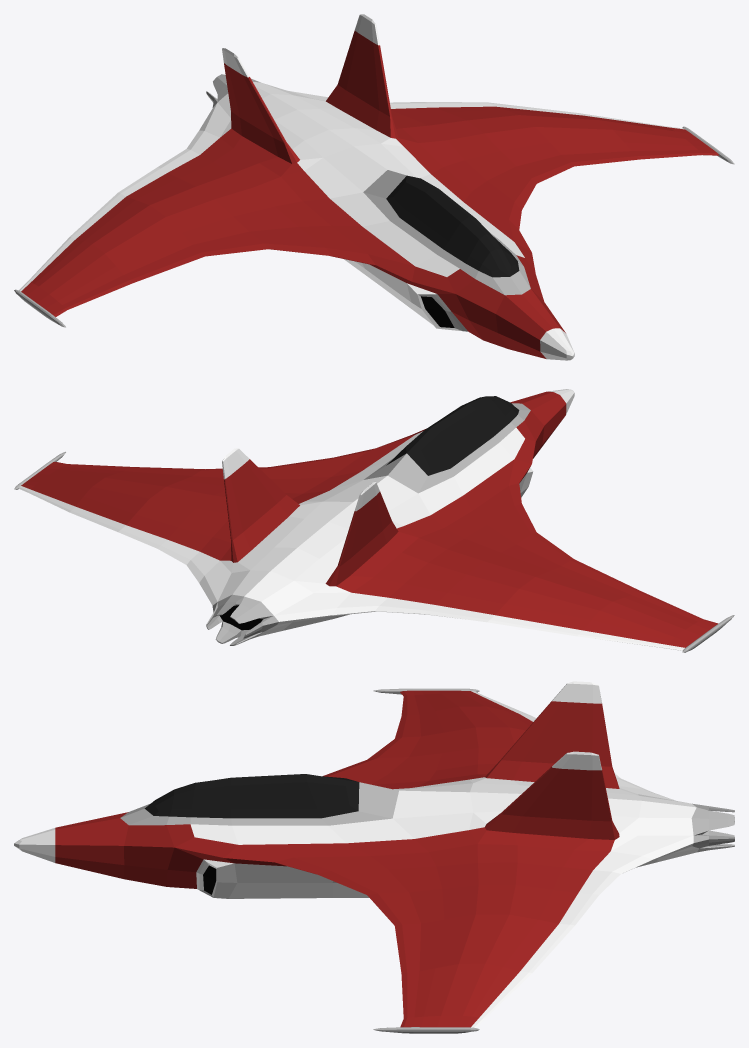
Rendered from jet.glb.
3 renders of one model, top to bottom at view 1: azimuth 30°, elevation 25°; view 2: azimuth 150°, elevation 25°; view 3: azimuth 270°, elevation 25°, orthographic. The views are drawn at different scales.
Visible parts, largest first — view 1: Model; view 2: Model; view 3: Model.
Boxes of the visible parts, x1,y1,x2,y2 form: Model: (14,14,734,360); Model: (14,389,734,652); Model: (14,681,734,1033).
Bounding box in the file's own units: 5.17 × 1.19 × 4.63.
